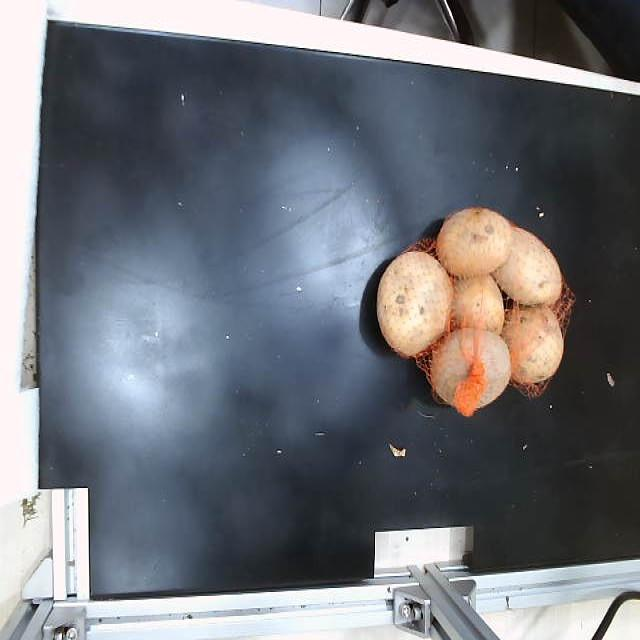potato: (376, 252, 454, 357), (430, 330, 510, 416), (492, 227, 562, 305), (436, 207, 511, 278), (501, 305, 564, 384), (451, 277, 504, 332)
